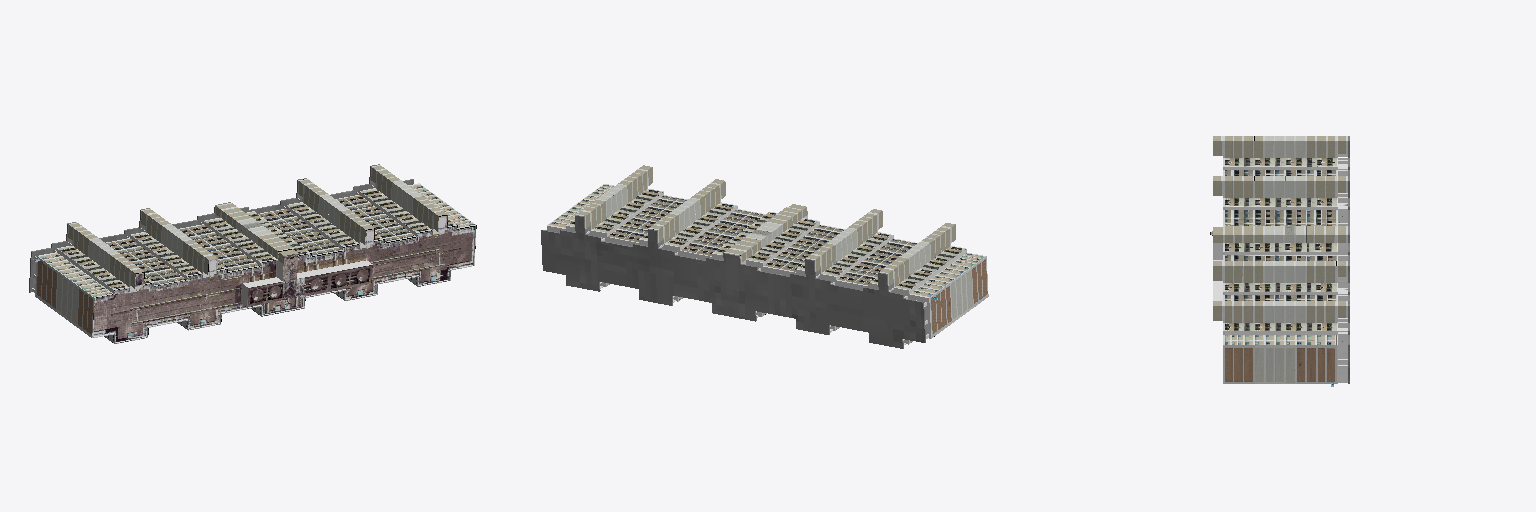
3 views of the same model, side by side, from view 1: azimuth 30°, elevation 25°; view 2: azimuth 150°, elevation 25°; view 3: azimuth 270°, elevation 25° (orthographic).
Parts seen in each view (by area): view 1: polygon.827; view 2: polygon.827; view 3: polygon.827.
Part boxes in pixels (x1,y1,x2,y2): polygon.827: (29, 164, 476, 343); polygon.827: (541, 165, 988, 348); polygon.827: (1210, 136, 1349, 386).
Size of the model in its own units: 123 by 26.73 by 38.04.
Materials: 1 (1 with a texture image).